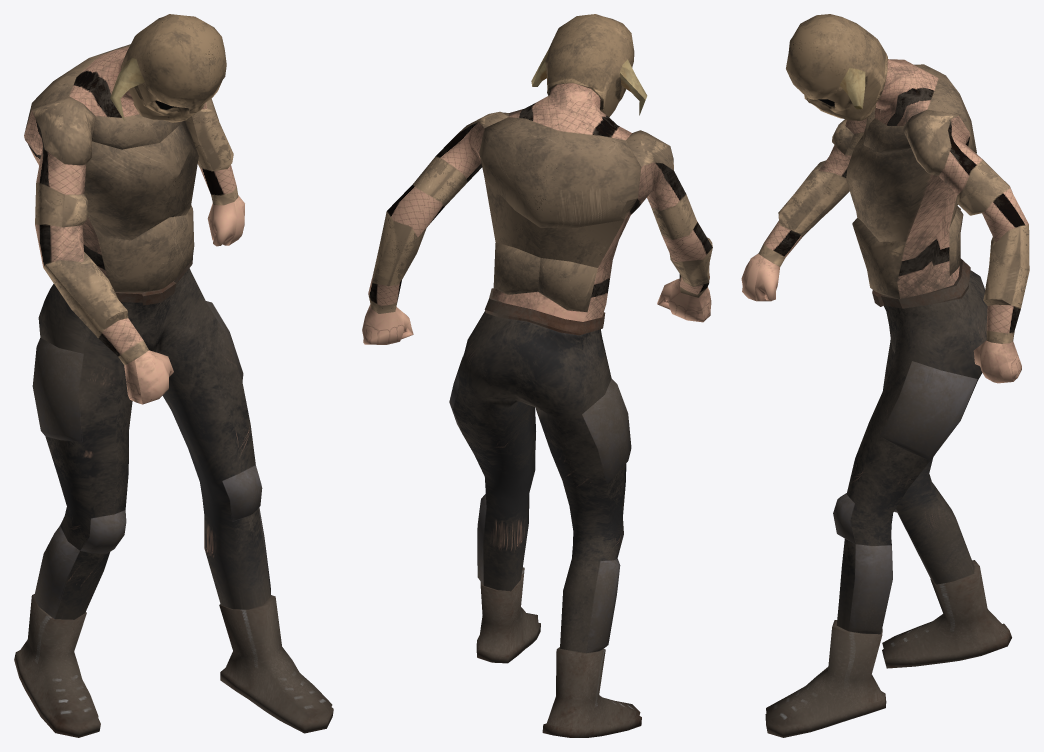
The model's file is Anim_cogerobjeto_npc1.0034.obj.
The picture shows the model from 3 angles, left to right: view 1: azimuth 30°, elevation 25°; view 2: azimuth 150°, elevation 25°; view 3: azimuth 270°, elevation 25°; orthographic projection. The views are drawn at different scales.
Visible parts, largest first — view 1: NPC2; view 2: NPC2; view 3: NPC2.
Boxes of the visible parts, box(x1,y1,x2,y2) form: NPC2: box(14, 14, 333, 737); NPC2: box(362, 14, 712, 737); NPC2: box(741, 14, 1029, 737).
Size of the model in its own units: 3.78 by 9.08 by 3.52.
